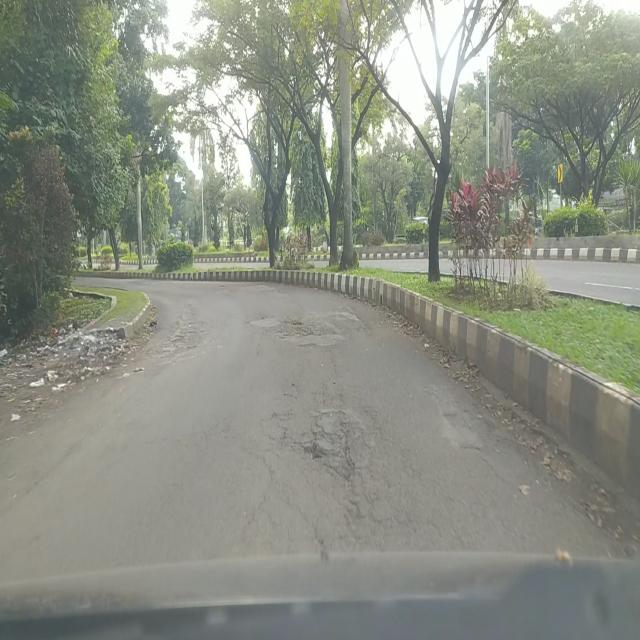Drain Hole: (284, 362, 367, 554), (275, 318, 329, 337)
